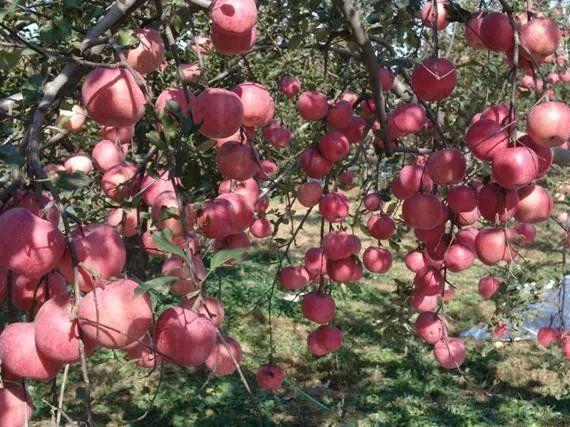apple: (75, 278, 151, 349), (1, 205, 64, 281), (32, 292, 98, 363), (62, 222, 125, 288), (82, 65, 147, 128), (155, 308, 215, 366), (1, 321, 58, 380), (191, 88, 244, 139), (525, 98, 569, 147), (465, 13, 515, 53), (515, 13, 559, 58), (413, 57, 455, 100), (493, 147, 537, 188), (211, 1, 258, 38), (234, 81, 272, 126), (474, 226, 517, 265), (467, 118, 510, 157), (213, 191, 253, 231), (162, 255, 203, 294), (217, 140, 255, 182), (478, 183, 519, 221), (403, 195, 444, 230), (151, 190, 183, 233), (516, 185, 553, 222), (429, 148, 467, 183), (206, 339, 242, 375), (103, 163, 137, 200), (196, 205, 231, 238), (416, 312, 448, 343), (432, 336, 464, 367), (320, 232, 358, 258), (93, 138, 124, 169), (297, 89, 327, 121), (279, 265, 310, 294), (443, 243, 473, 272), (309, 326, 340, 354), (302, 292, 333, 320), (321, 130, 348, 160), (302, 146, 329, 176), (322, 193, 349, 221), (363, 247, 392, 273), (367, 213, 392, 240), (298, 181, 321, 208), (330, 260, 356, 283)
